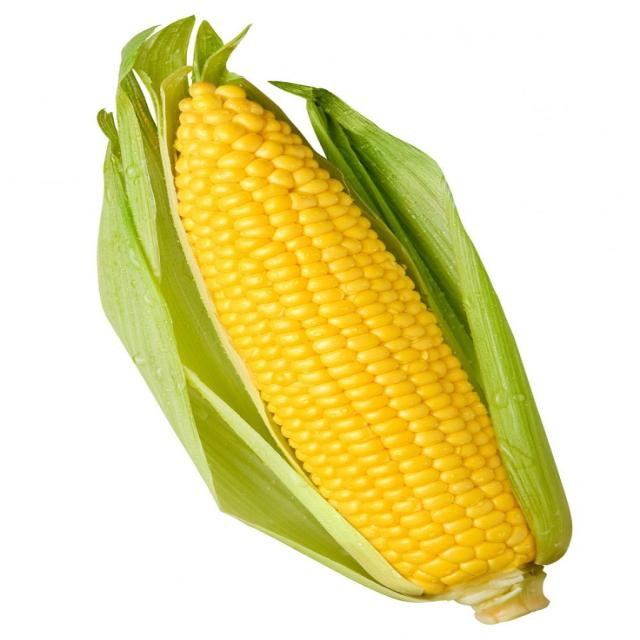Corn: (84, 0, 530, 621)
